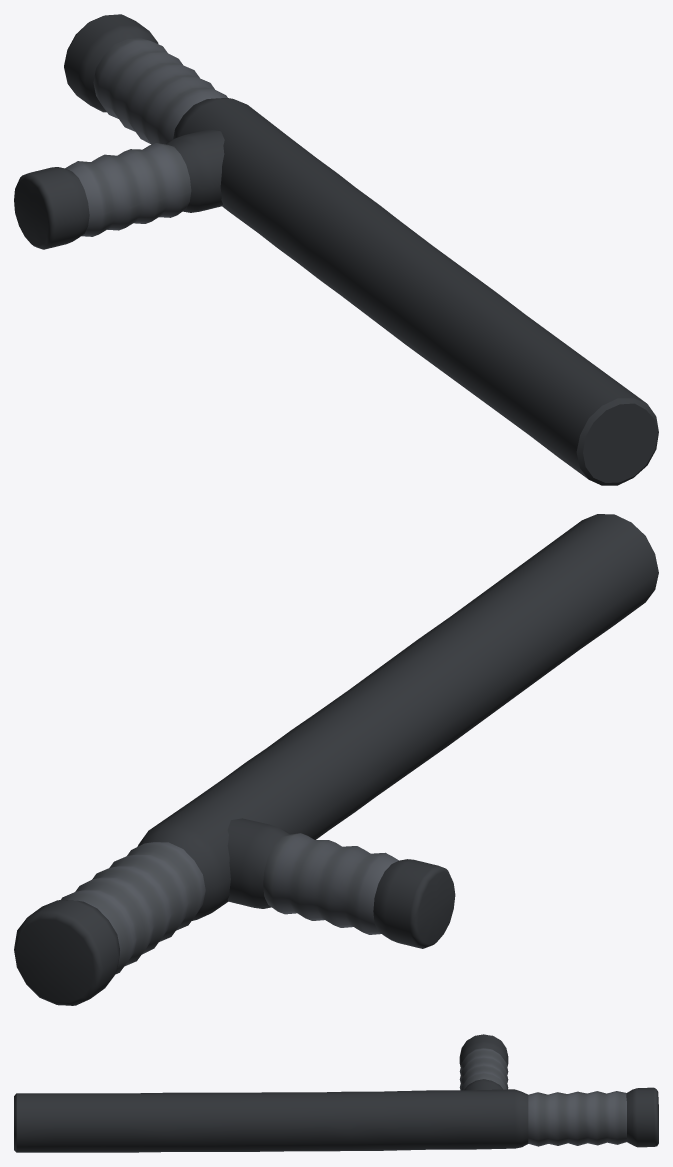
The model's file is dubinka111.fbx.
3 renders of one model, top to bottom at view 1: azimuth 30°, elevation 25°; view 2: azimuth 150°, elevation 25°; view 3: azimuth 270°, elevation 25°, orthographic. The views are drawn at different scales.
Parts seen in each view (by area): view 1: dubinka111; view 2: dubinka111; view 3: dubinka111.
Part boxes in pixels (bbox=[...]): dubinka111: bbox=[14, 14, 658, 485]; dubinka111: bbox=[14, 514, 658, 1005]; dubinka111: bbox=[14, 1034, 658, 1152].
Bounding box in the file's own units: 30.18 × 10.9 × 107.
